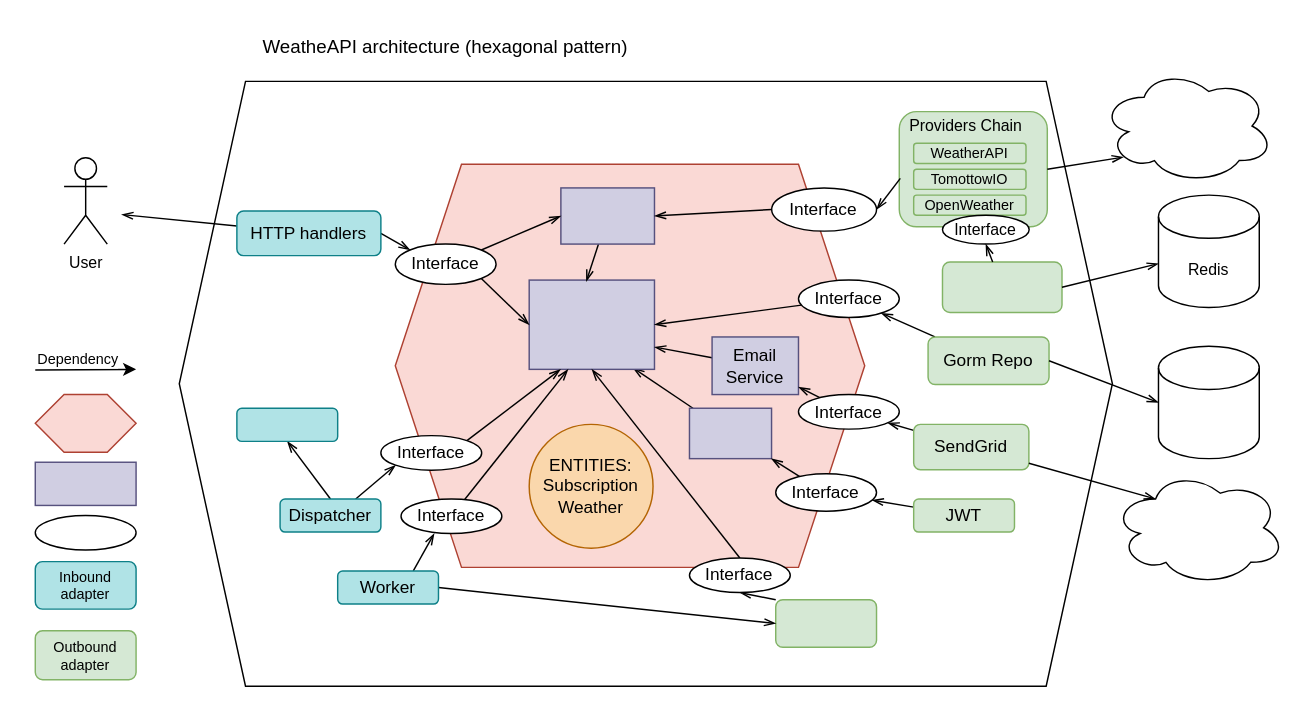
The diagram is 1310 pixels wide and 711 high, and some of its shapes have lost their labels. Each missing label, with the centre of its shape:
"Core" goes at (85,422).
"Cron" goes at (286,424).
"Port" goes at (85,532).
"Postgres" goes at (1208,402).
"Queue (in memory)" goes at (825,622).
"Redis Cache" goes at (1001,286).
"SendGrid API" goes at (1198,527).
"Service (Use case)" goes at (85,483).
"Subscription Service" goes at (591,324).
"Token Service" goes at (730,433).
"Weather APIs" goes at (1186,125).
"Weather Service" goes at (606,215).
